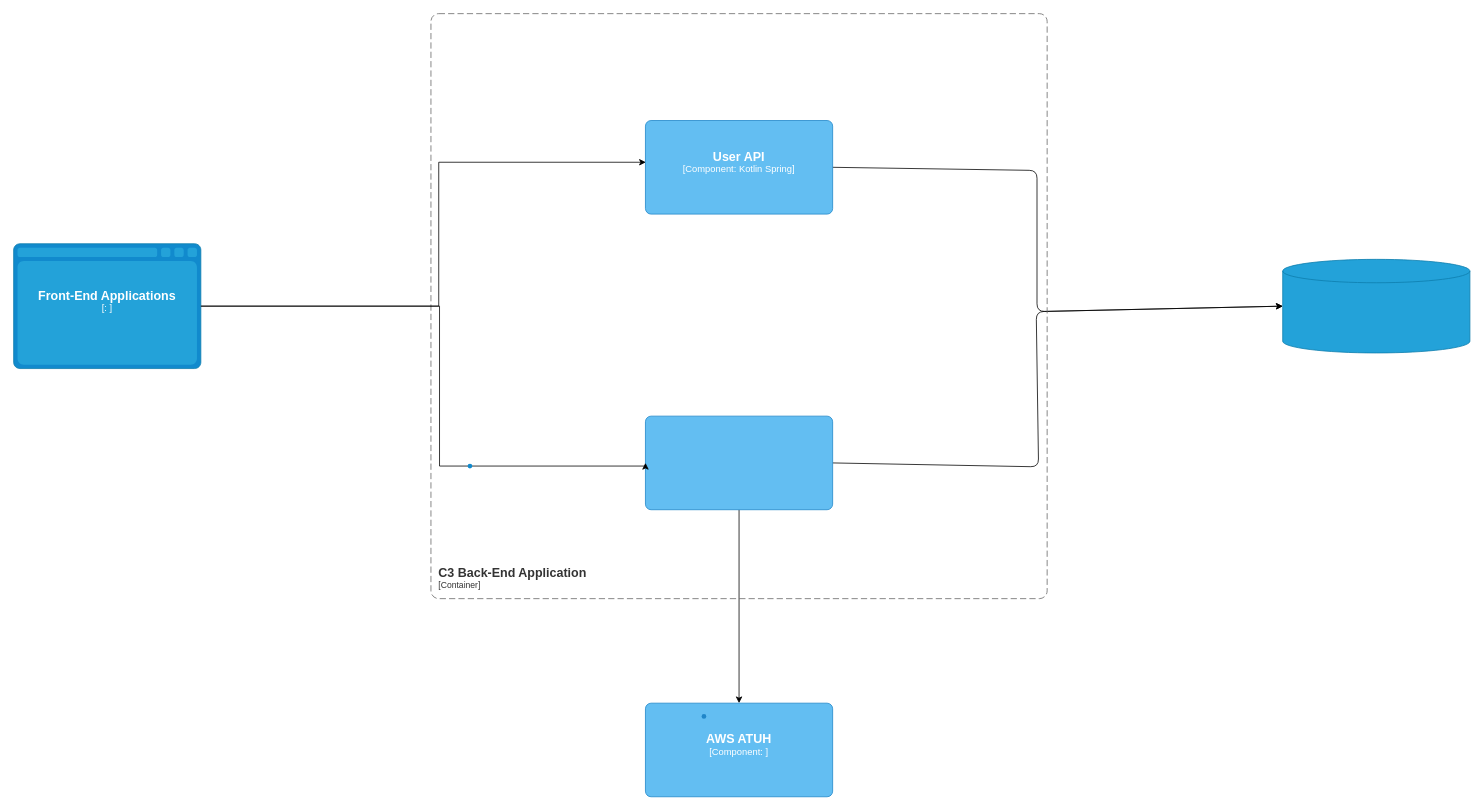
Image size: 1484x810. Some labels were removed from this diagram. Each missing label, with the centre of its shape:
"Database [Container: MongoDB || (MySQL || Postgress || ?)] NR ou R ?" belongs at point (1376, 306).
"Roadmap API [Component: Kotlin Spring]" belongs at point (739, 462).
